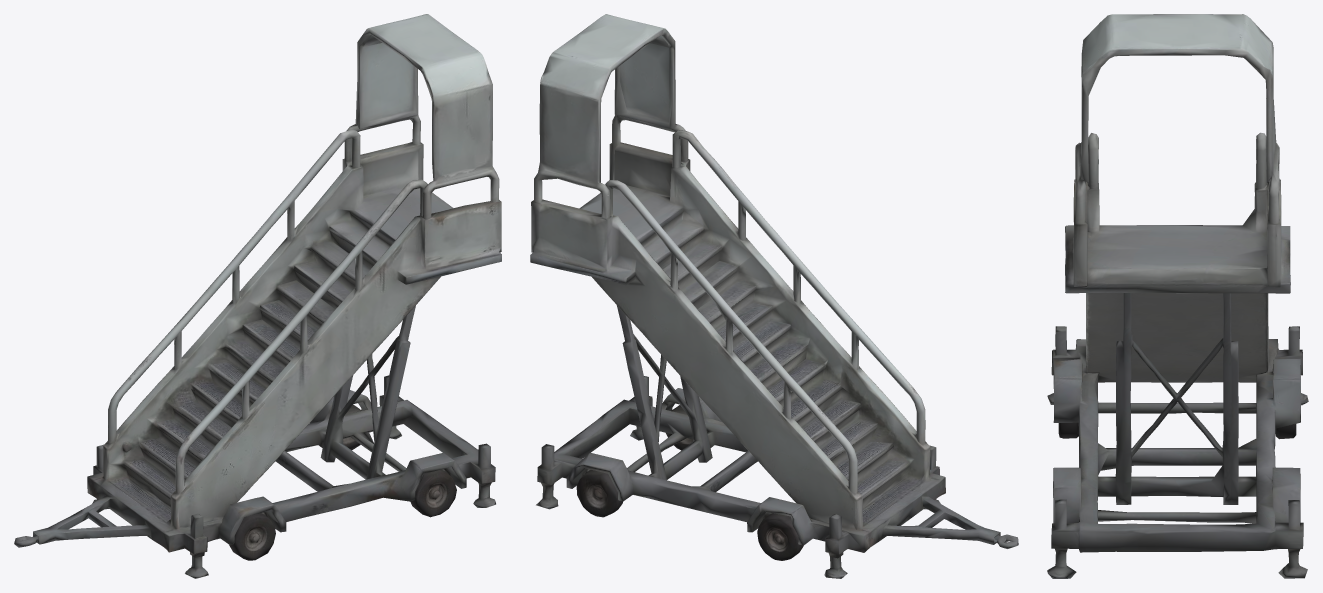
Rendered from airport_stairs.glb.
The picture shows the model from 3 angles, left to right: view 1: azimuth 30°, elevation 25°; view 2: azimuth 150°, elevation 25°; view 3: azimuth 270°, elevation 25°; orthographic projection. The views are drawn at different scales.
Visible parts, largest first — view 1: tripo_node_169da9d6-3e64-402b-9f99-2e7b308b10ab; view 2: tripo_node_169da9d6-3e64-402b-9f99-2e7b308b10ab; view 3: tripo_node_169da9d6-3e64-402b-9f99-2e7b308b10ab.
Boxes of the visible parts, bbox=[...] form: tripo_node_169da9d6-3e64-402b-9f99-2e7b308b10ab: bbox=[14, 14, 501, 578]; tripo_node_169da9d6-3e64-402b-9f99-2e7b308b10ab: bbox=[530, 14, 1018, 578]; tripo_node_169da9d6-3e64-402b-9f99-2e7b308b10ab: bbox=[1047, 14, 1308, 578].
Size of the model in its own units: 1 by 0.9297 by 0.4112.
Materials: 1 (1 with a texture image).
